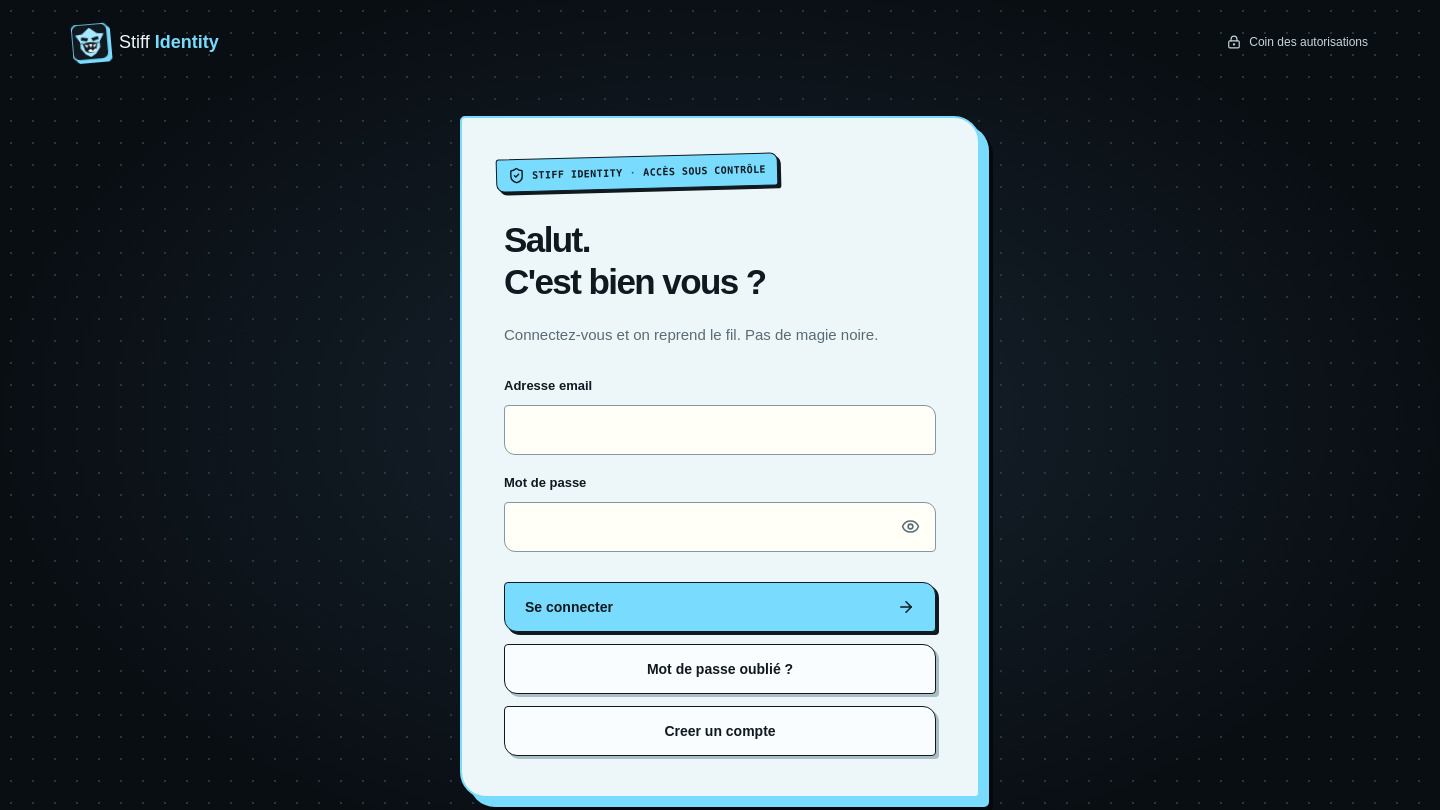
interface › permet d annuler et masque les erreurs techniques lors de la réinitialisation
Type "user@example.com" into the field with id "email" at x=720, y=430, box [504, 405, 936, 455]
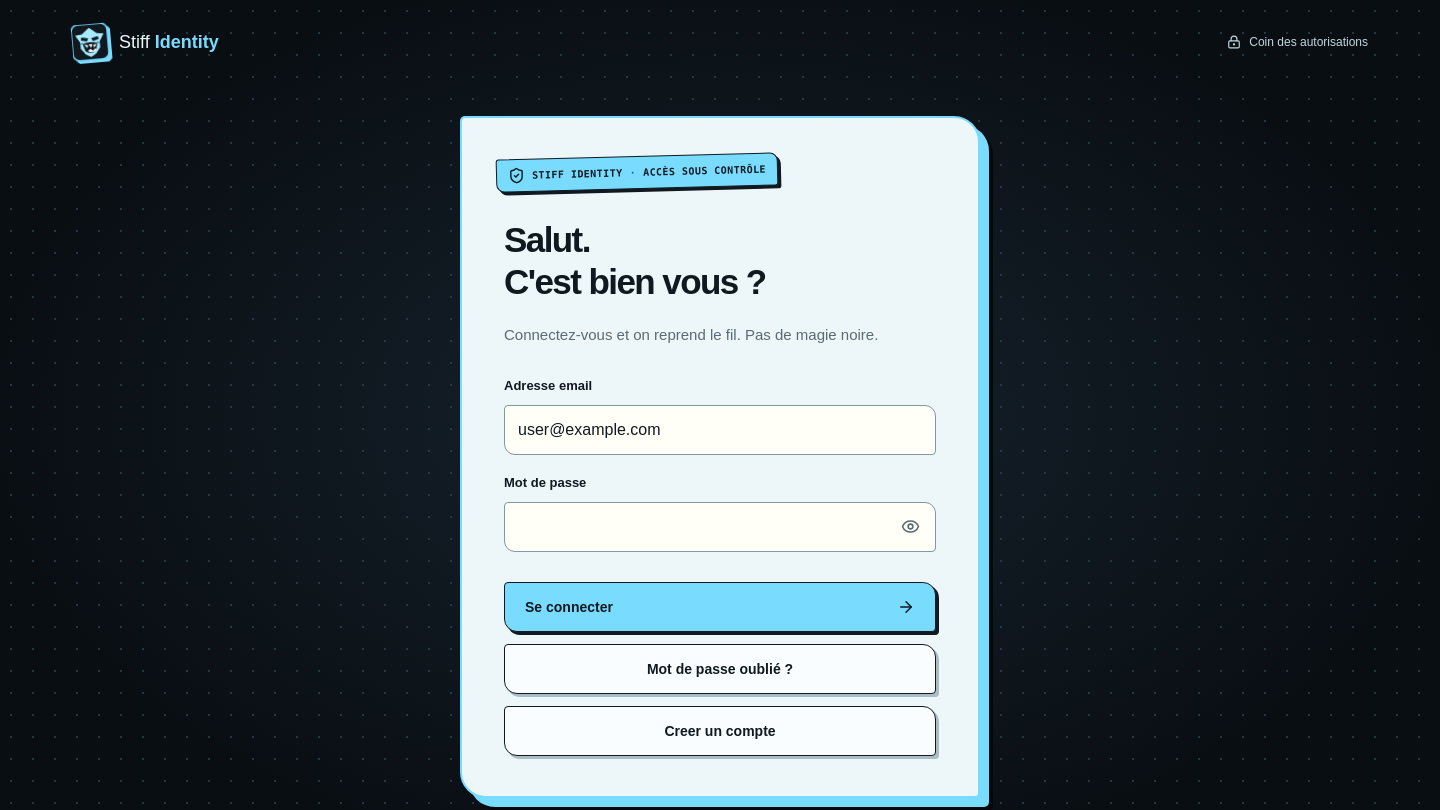
Click the button with class "forgot-password" at x=720, y=669, box [504, 644, 936, 694]
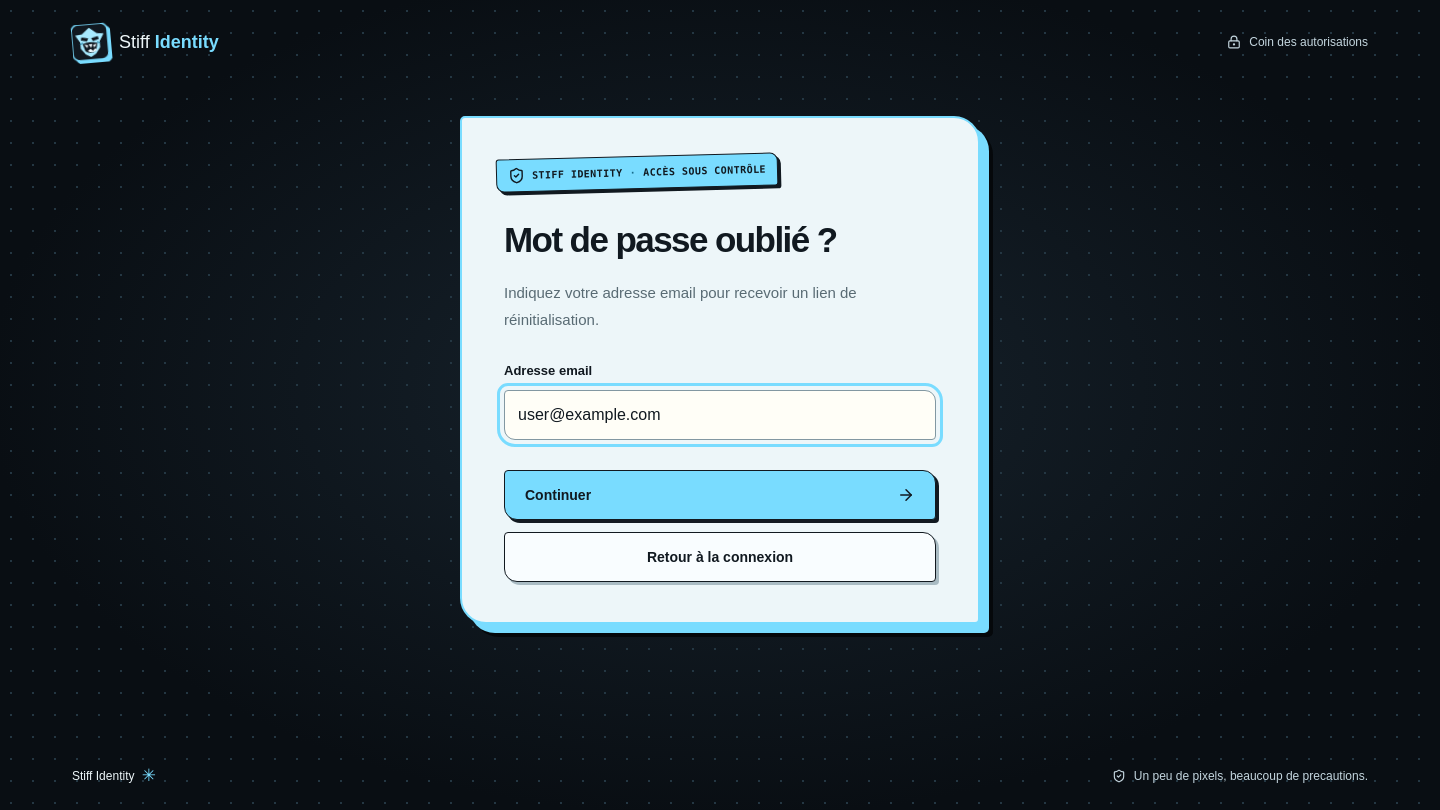
Submit the form, box [504, 363, 936, 582]
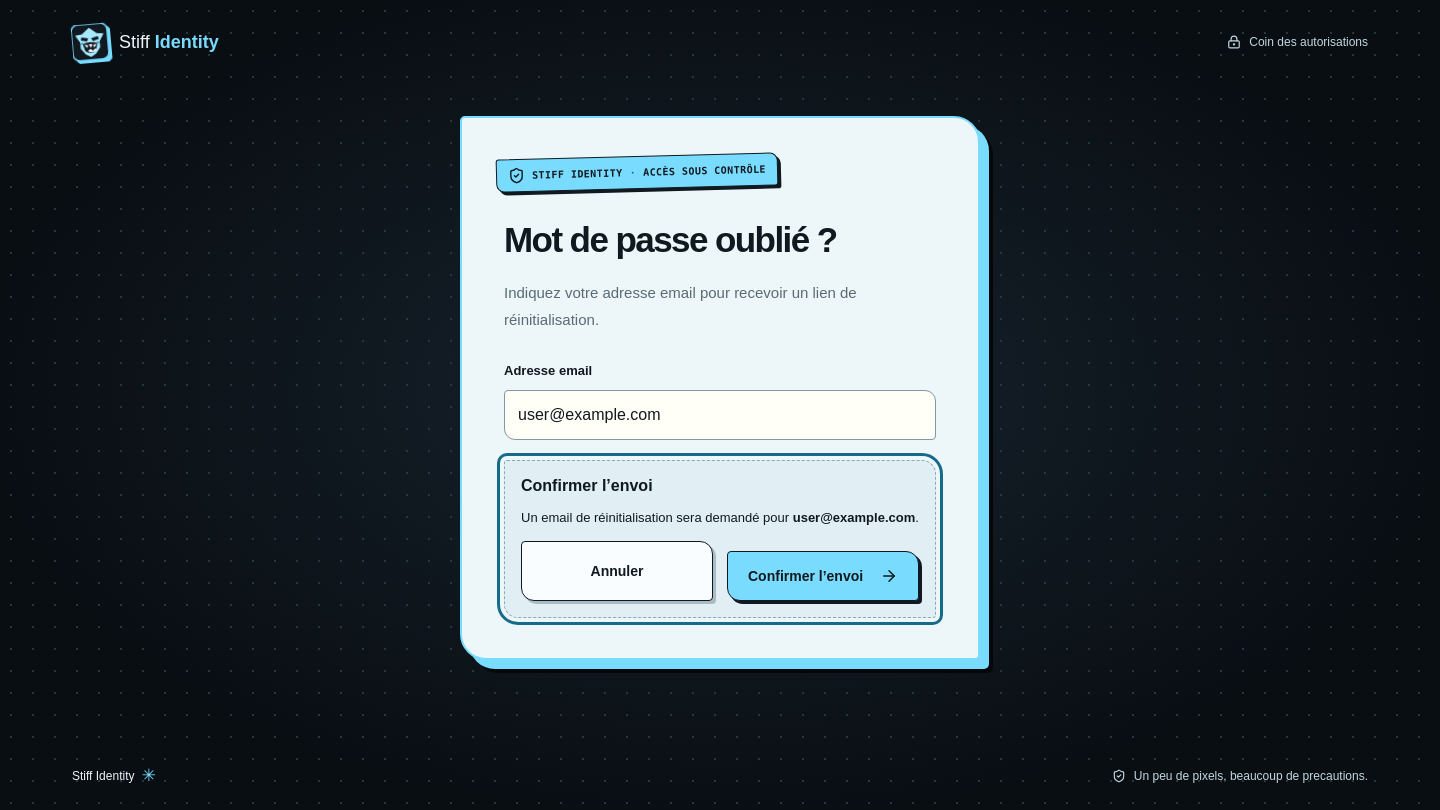
Click the button with class "secondary" at x=617, y=571, box [521, 541, 713, 601]
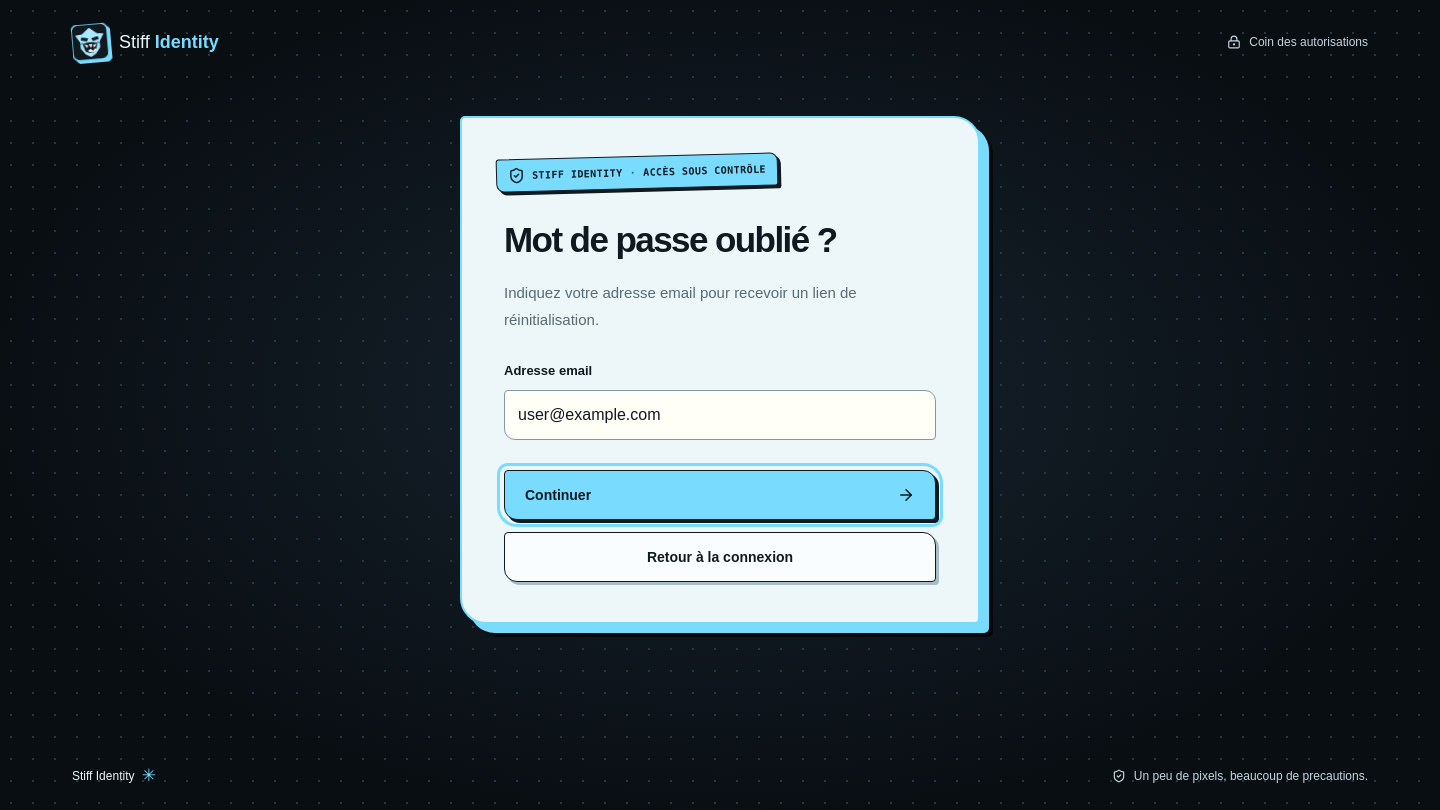
Expected: the number of fields is 1, [504, 390, 936, 440]
Expected: the heading "Mot de passe oublié ?" is shown, [504, 220, 836, 259]
Submit the form, box [504, 363, 936, 582]
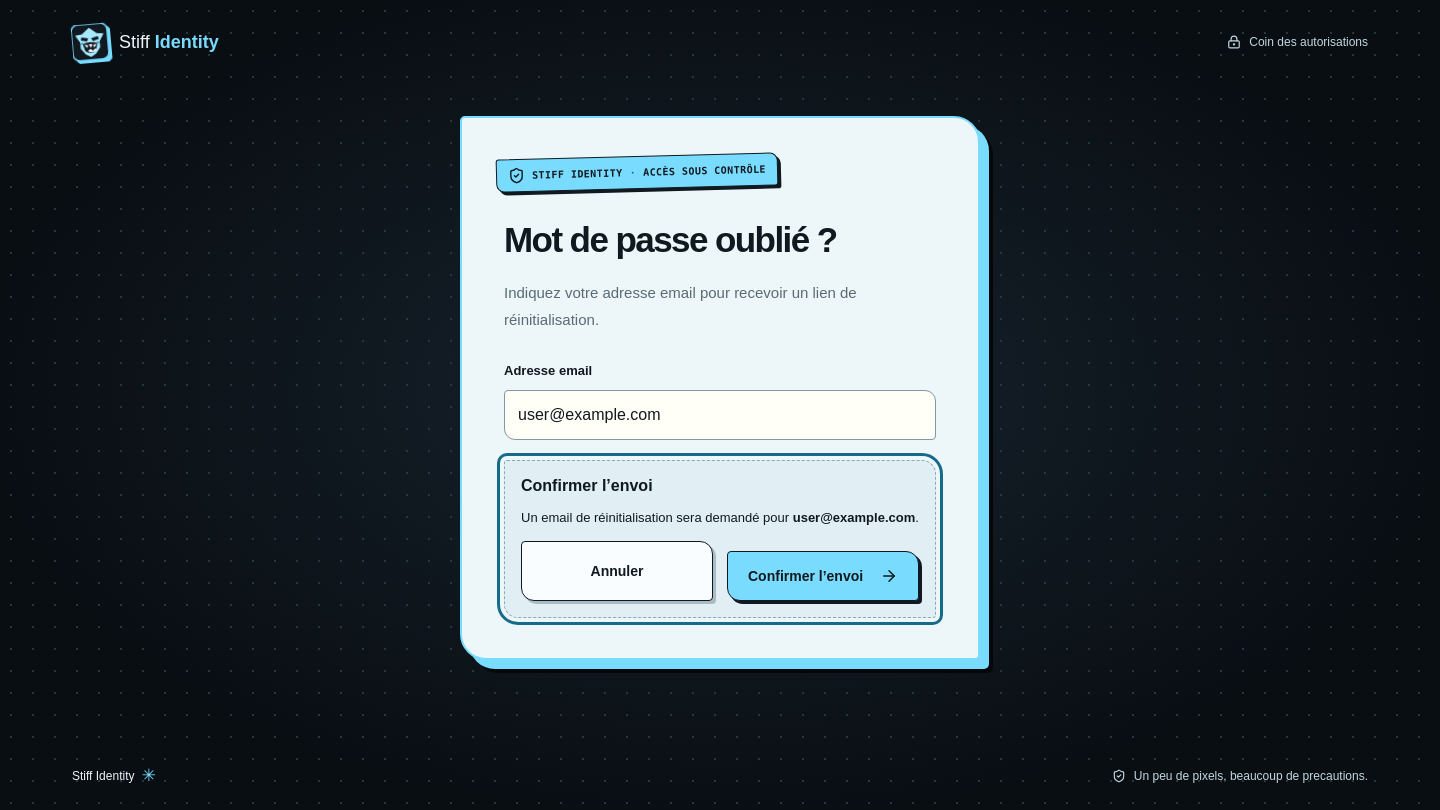
Submit the form, box [504, 363, 936, 618]
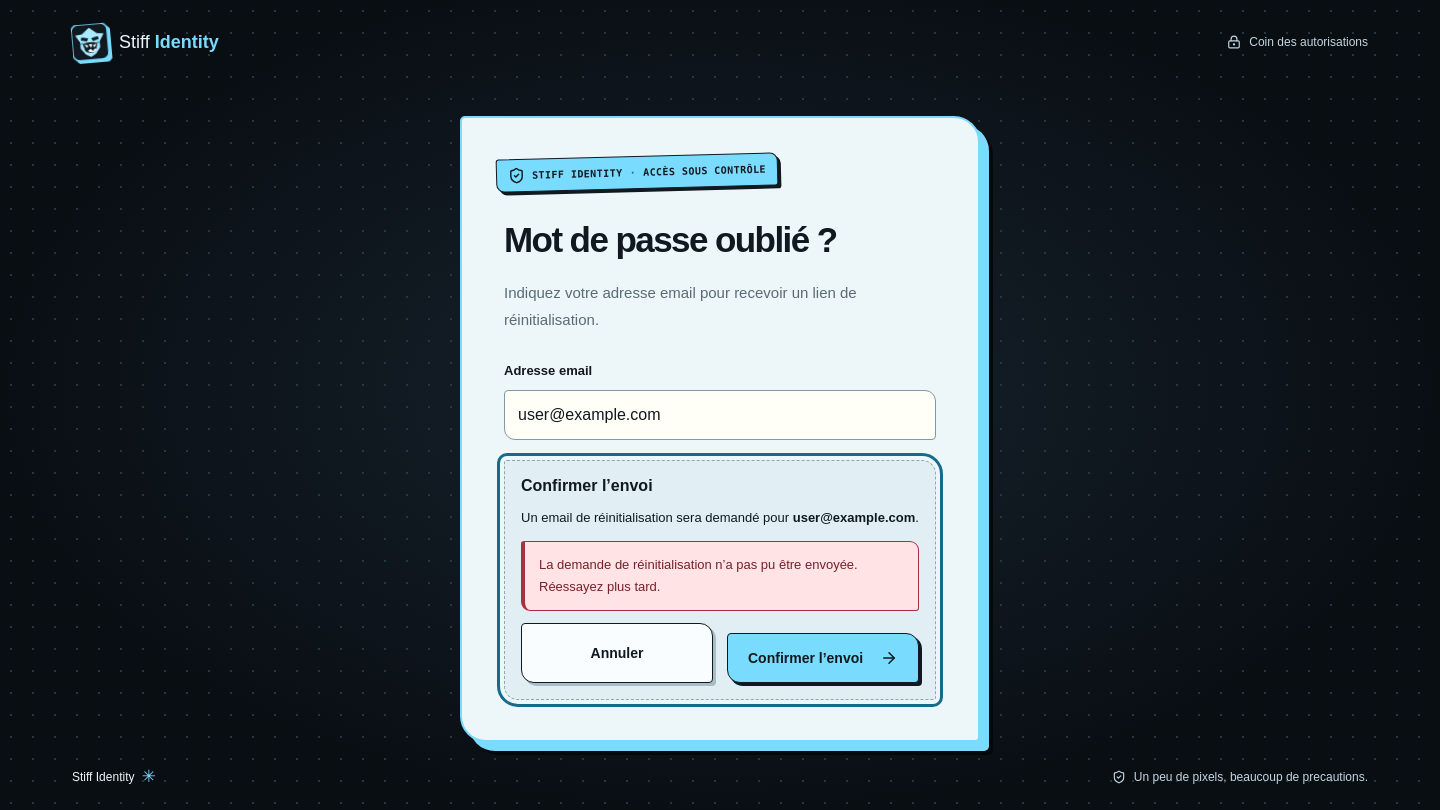
Expected: the message "La demande de réinitialisation n’a pas pu être envoyée. Réessayez plus tard." is shown, [521, 541, 919, 611]
